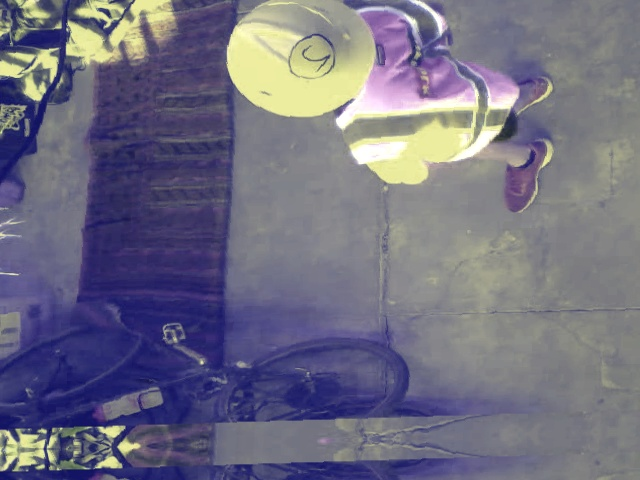two: (287, 32, 337, 78)
